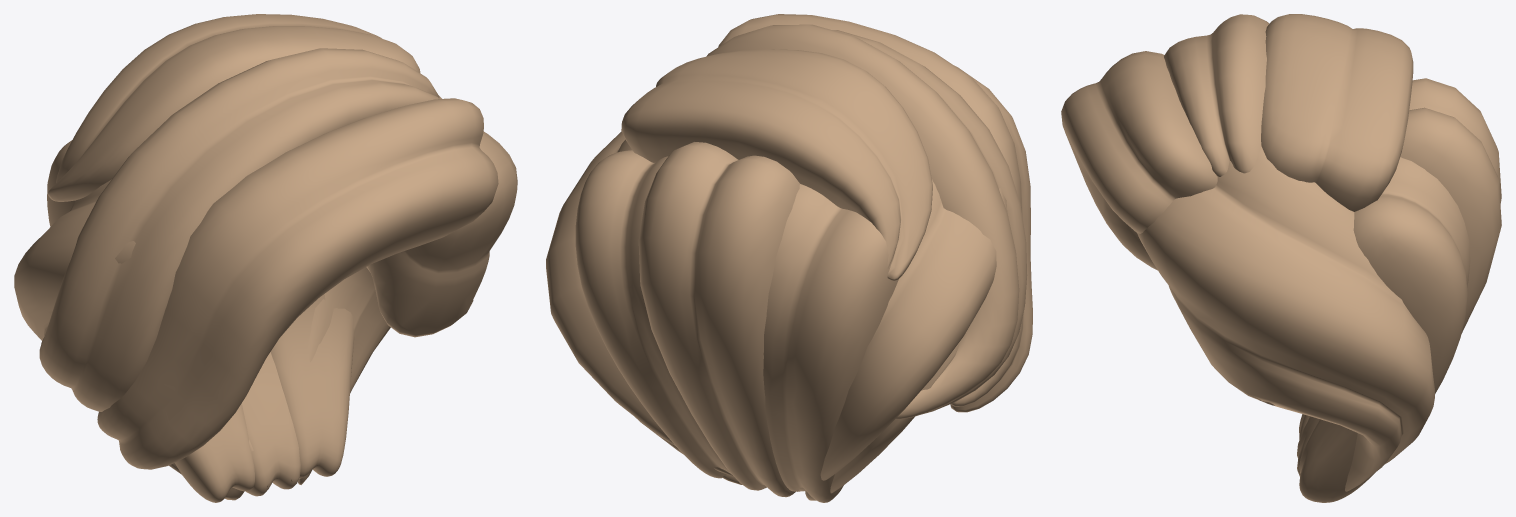
File: hair-5-3c7f199e.glb
3 renders of one model, left to right at view 1: azimuth 30°, elevation 25°; view 2: azimuth 150°, elevation 25°; view 3: azimuth 270°, elevation 25°, orthographic. The views are drawn at different scales.
Visible parts, largest first — view 1: Geo_White_Older_Female_Hair_5.001; view 2: Geo_White_Older_Female_Hair_5.001; view 3: Geo_White_Older_Female_Hair_5.001.
Part boxes in pixels (x1,y1,x2,y2): Geo_White_Older_Female_Hair_5.001: (14,14,517,502); Geo_White_Older_Female_Hair_5.001: (546,14,1032,502); Geo_White_Older_Female_Hair_5.001: (1061,14,1501,502).
Size of the model in its own units: 1.96 by 1.94 by 1.75.
